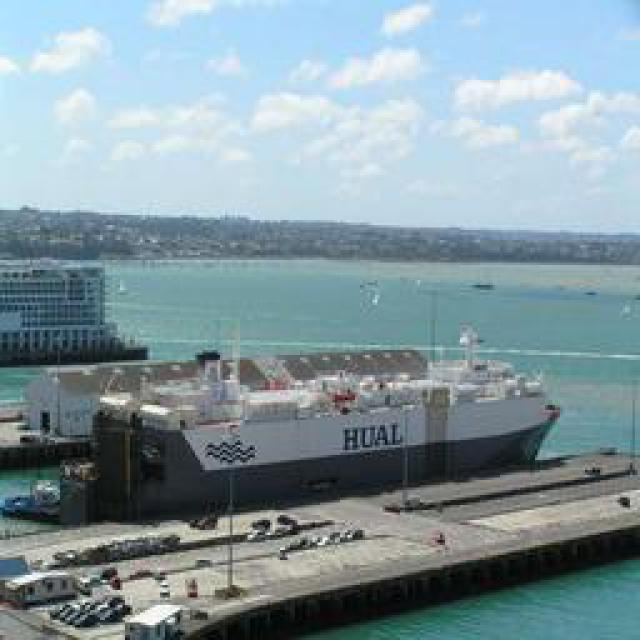Ship: (104, 349, 569, 512)
